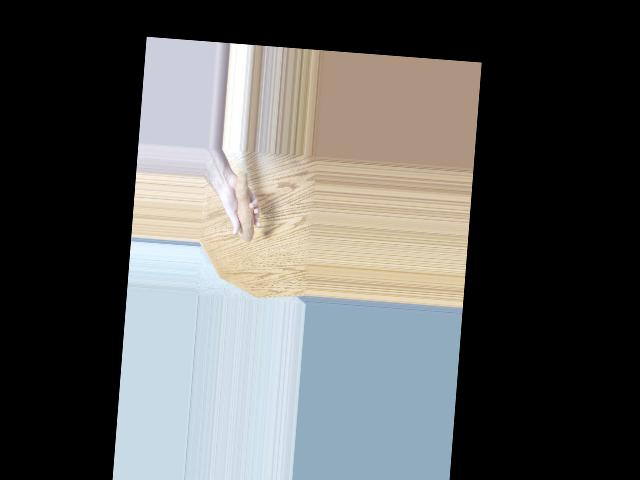sweet_potato: (225, 163, 260, 243)
